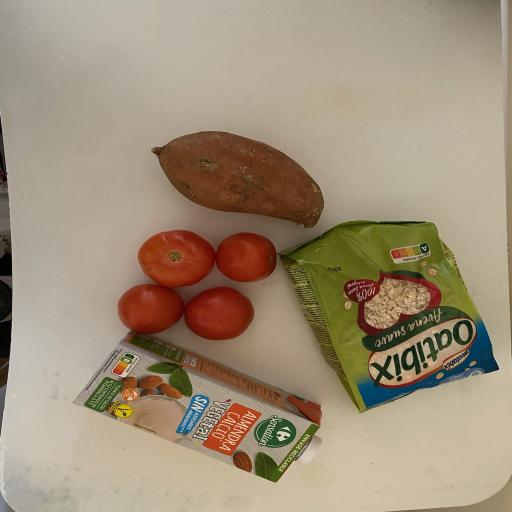almond_milk: (68, 333, 326, 488)
oats: (280, 219, 498, 415)
sweet_potato: (150, 128, 327, 232)
tomato: (134, 228, 218, 290), (178, 284, 261, 343), (213, 230, 281, 286), (116, 282, 186, 336)
